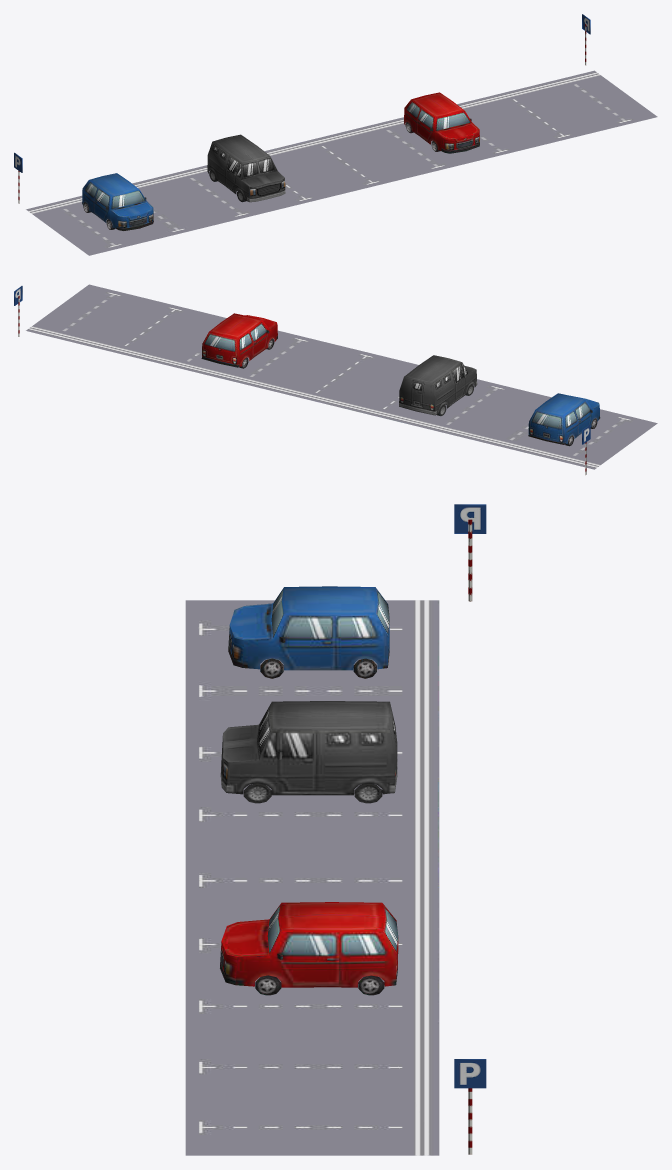
The picture shows the model from 3 angles, top to bottom: view 1: azimuth 30°, elevation 25°; view 2: azimuth 150°, elevation 25°; view 3: azimuth 270°, elevation 25°; orthographic projection. The views are drawn at different scales.
Parts seen in each view (by area): view 1: 6086350f10b9793609a8a8c2; view 2: 6086350f10b9793609a8a8c2; view 3: 6086350f10b9793609a8a8c2.
Part boxes in pixels (x1=…): 6086350f10b9793609a8a8c2: x1=14, y1=14, x2=657, y2=255; 6086350f10b9793609a8a8c2: x1=14, y1=284, x2=657, y2=475; 6086350f10b9793609a8a8c2: x1=185, y1=504, x2=486, y2=1155.
Bounding box in the file's own units: 29.24 × 2.37 × 6.69.
1 material, 1 textured.
